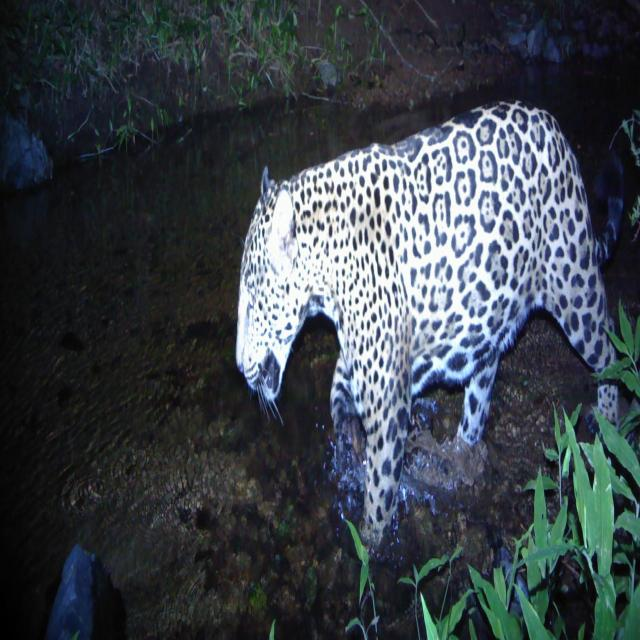Jaguar: (228, 102, 616, 555)
